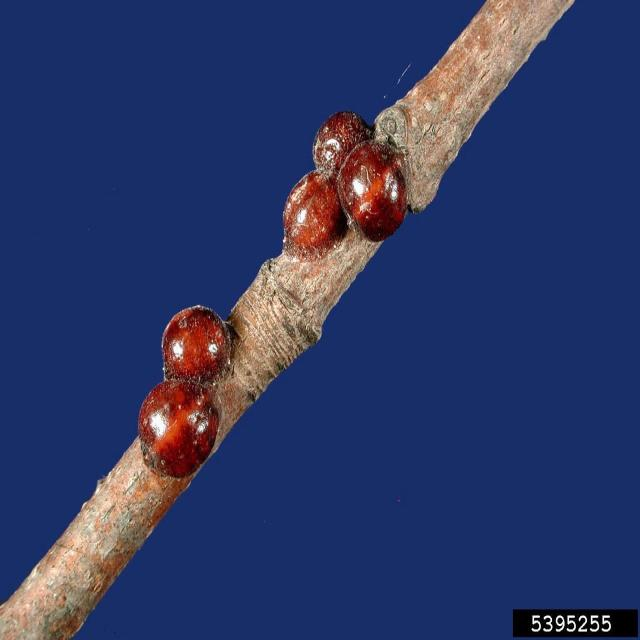Black Scale: (283, 111, 406, 259), (138, 306, 236, 479)
